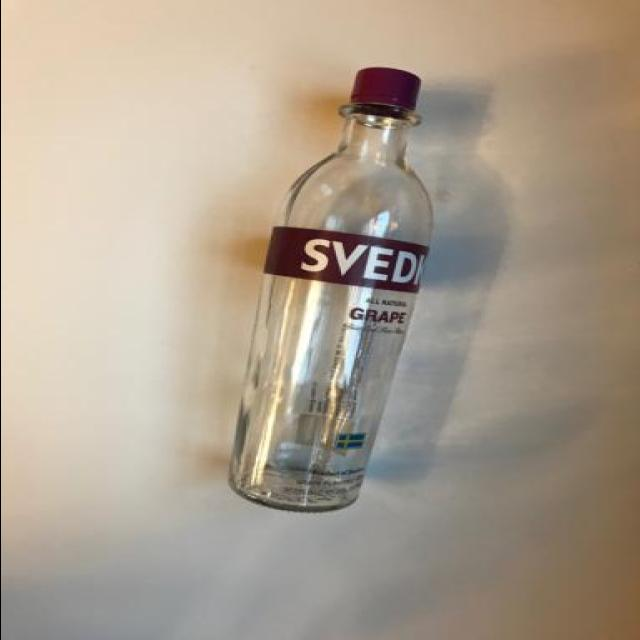Glass Bottle: (222, 62, 440, 518)
